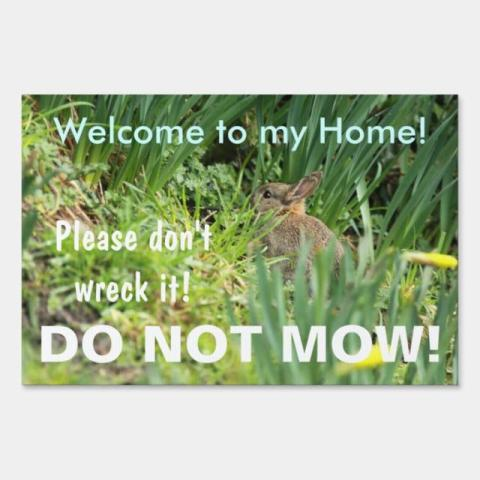small_animal: (241, 169, 347, 296)
